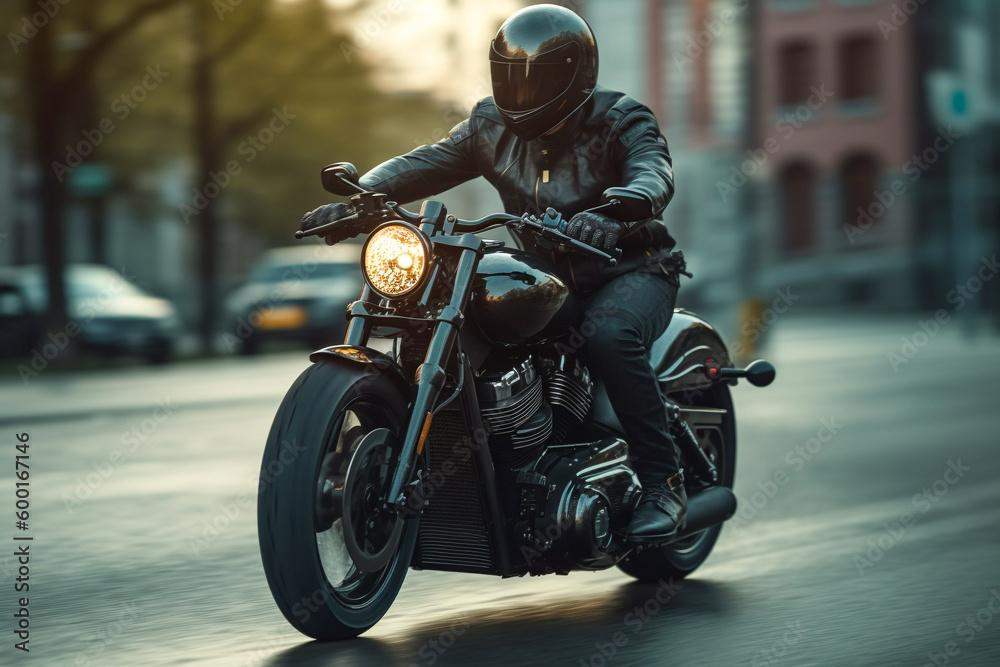helmet: (487, 2, 600, 146)
